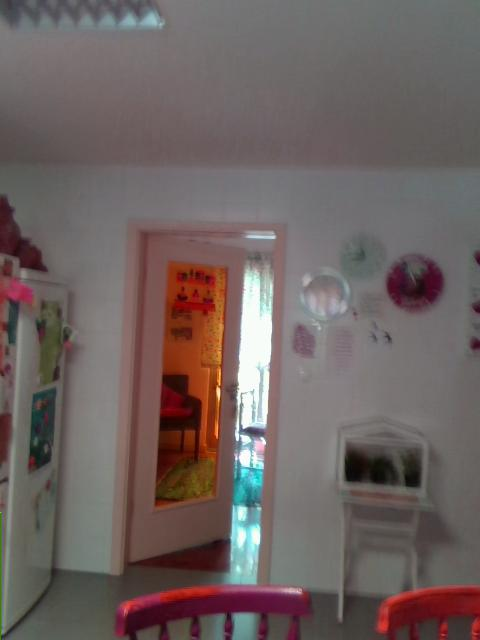semi_door: (109, 215, 286, 589)
